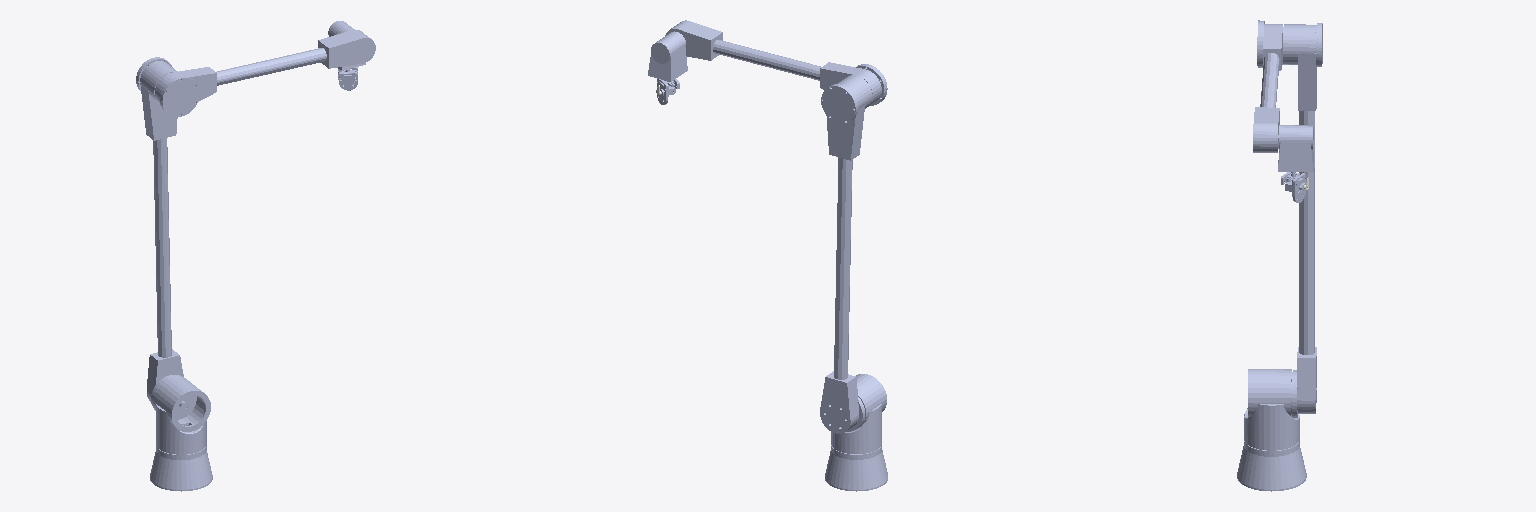
robot.urdf — proxima_manipulator:
<?xml version="1.0" encoding="utf-8"?>
<!-- This URDF was automatically created by SolidWorks to URDF Exporter! Originally created by [author] ([email redacted]) 
     Commit Version: 1.6.0-4-g7f85cfe  Build Version: 1.6.7995.38578
     For more information, please see http://wiki.ros.org/sw_urdf_exporter -->
<robot
  name="proxima_manipulator">

<link name="world"/>
<joint name="base_joint" type="fixed">
	<parent link="world"/>
	<child link="base_link"/>
	<origin rpy="0 0 3.142" xyz="0.0 0.0 0.0"/>
  </joint>

  <link
    name="base_link">
    <inertial>
      <origin
        xyz="2.5258402656484E-17 -7.66842226908882E-17 0.0290208692675547"
        rpy="0 0 0" />
      <mass
        value="0.247721059115889" />
      <inertia
        ixx="0.0003011867427044"
        ixy="2.05830182972313E-20"
        ixz="2.47621372524941E-20"
        iyy="0.0003011867427044"
        iyz="-1.96127207461358E-19"
        izz="0.000467545439957378" />
    </inertial>
    <visual>
      <origin
        xyz="0 0 0"
        rpy="0 0 0" />
      <geometry>
        <mesh
          filename="package://proxima_manipulator/meshes/base_link.STL" />
      </geometry>
      <material
        name="">
        <color
          rgba="0.792156862745098 0.819607843137255 0.933333333333333 1" />
      </material>
    </visual>
    <collision>
      <origin
        xyz="0 0 0"
        rpy="0 0 0" />
      <geometry>
        <mesh
          filename="package://proxima_manipulator/meshes/base_link.STL" />
      </geometry>
    </collision>
  </link>
  <link
    name="link_1">
    <inertial>
      <origin
        xyz="0.000679383765083395 0.0548526398535723 -2.3768793279131E-07"
        rpy="0 0 0" />
      <mass
        value="0.299442623727157" />
      <inertia
        ixx="0.000485698773883558"
        ixy="-7.01102822877796E-06"
        ixz="-8.72574148242731E-10"
        iyy="0.000369014762438299"
        iyz="1.69735479817694E-10"
        izz="0.000424724644713757" />
    </inertial>
    <visual>
      <origin
        xyz="0 0 0"
        rpy="0 0 0" />
      <geometry>
        <mesh
          filename="package://proxima_manipulator/meshes/link_1.STL" />
      </geometry>
      <material
        name="">
        <color
          rgba="0.792156862745098 0.819607843137255 0.933333333333333 1" />
      </material>
    </visual>
    <collision>
      <origin
        xyz="0 0 0"
        rpy="0 0 0" />
      <geometry>
        <mesh
          filename="package://proxima_manipulator/meshes/link_1.STL" />
      </geometry>
    </collision>
  </link>
  <joint
    name="joint_1"
    type="revolute">
    <origin
      xyz="0 0 0.052137"
      rpy="1.5708 0 1.5385" />
    <parent
      link="base_link" />
    <child
      link="link_1" />
    <axis
      xyz="0 -1 0" />
    <limit
      lower="0"
      upper="6.28"
      effort="300"
      velocity="3" />
  </joint>
  <link
    name="link_2">
    <inertial>
      <origin
        xyz="0.050597140893502 0.317685319191882 0.00338527588810221"
        rpy="0 0 0" />
      <mass
        value="0.431675804986954" />
      <inertia
        ixx="0.00212485997772942"
        ixy="4.92746627125594E-06"
        ixz="5.11499603265545E-06"
        iyy="0.00017848011321194"
        iyz="1.396088846447E-06"
        izz="0.00203639391469199" />
    </inertial>
    <visual>
      <origin
        xyz="0 0 0"
        rpy="0 0 0" />
      <geometry>
        <mesh
          filename="package://proxima_manipulator/meshes/link_2.STL" />
      </geometry>
      <material
        name="">
        <color
          rgba="0.792156862745098 0.819607843137255 0.933333333333333 1" />
      </material>
    </visual>
    <collision>
      <origin
        xyz="0 0 0"
        rpy="0 0 0" />
      <geometry>
        <mesh
          filename="package://proxima_manipulator/meshes/link_2.STL" />
      </geometry>
    </collision>
  </link>
  <joint
    name="joint_2"
    type="revolute">
    <origin
      xyz="0 0.0950000000000002 0"
      rpy="3.11920106161477 -0.0584069807270765 -3.14028535401375" />
    <parent
      link="link_1" />
    <child
      link="link_2" />
    <axis
      xyz="-0.99829394408228 0 -0.0583883653534411" />
    <limit
      lower="-1.6"
      upper="1.6"
      effort="200"
      velocity="3" />
  </joint>
  <link
    name="link_3">
    <inertial>
      <origin
        xyz="-0.00985412688205162 0.00581004391562301 0.178575211649324"
        rpy="0 0 0" />
      <mass
        value="0.280632653657222" />
      <inertia
        ixx="0.000444049965086898"
        ixy="4.59149600846214E-07"
        ixz="2.36461103156913E-05"
        iyy="0.000410211013806783"
        iyz="-6.76634984758777E-06"
        izz="9.90246968945817E-05" />
    </inertial>
    <visual>
      <origin
        xyz="0 0 0"
        rpy="0 0 0" />
      <geometry>
        <mesh
          filename="package://proxima_manipulator/meshes/link_3.STL" />
      </geometry>
      <material
        name="">
        <color
          rgba="0.792156862745098 0.819607843137255 0.933333333333333 1" />
      </material>
    </visual>
    <collision>
      <origin
        xyz="0 0 0"
        rpy="0 0 0" />
      <geometry>
        <mesh
          filename="package://proxima_manipulator/meshes/link_3.STL" />
      </geometry>
    </collision>
  </link>
  <joint
    name="joint_3"
    type="revolute">
    <origin
      xyz="-7.87703295446214E-05 0.614389000141173 0.00134677418149688"
      rpy="0.0223152609114132 -1.45620991984797E-05 0.00130507036394283" />
    <parent
      link="link_2" />
    <child
      link="link_3" />
    <axis
      xyz="0.998293944082279 0 0.0583883653534387" />
    <limit
      lower="-4.3"
      upper="1.2"
      effort="200"
      velocity="3" />
  </joint>
  <link
    name="link_4">
    <inertial>
      <origin
        xyz="0.0301290383281838 -0.022624242385202 0.0017034441674571"
        rpy="0 0 0" />
      <mass
        value="0.101723006190532" />
      <inertia
        ixx="5.32387818316443E-05"
        ixy="-2.14331810138912E-07"
        ixz="-6.30723833289978E-07"
        iyy="5.04859372146092E-05"
        iyz="-1.42626306207329E-07"
        izz="6.39658108033768E-05" />
    </inertial>
    <visual>
      <origin
        xyz="0 0 0"
        rpy="0 0 0" />
      <geometry>
        <mesh
          filename="package://proxima_manipulator/meshes/link_4.STL" />
      </geometry>
      <material
        name="">
        <color
          rgba="0.792156862745098 0.819607843137255 0.933333333333333 1" />
      </material>
    </visual>
    <collision>
      <origin
        xyz="0 0 0"
        rpy="0 0 0" />
      <geometry>
        <mesh
          filename="package://proxima_manipulator/meshes/link_4.STL" />
      </geometry>
    </collision>
  </link>
  <joint
    name="joint_4"
    type="revolute">
    <origin
      xyz="-0.00132044807338457 0.00819533769298764 0.372225791798846"
      rpy="-0.0298981332384568 4.4048526031649E-05 -0.00174947259189244" />
    <parent
      link="link_3" />
    <child
      link="link_4" />
    <axis
      xyz="0.99828701476073 -0.000894175230800016 0.0584998855619884" />
    <limit
      lower="-4"
      upper="0"
      effort="200"
      velocity="3" />
  </joint>
  <link
    name="link_5">
    <inertial>
      <origin
        xyz="0.00467171554770146 -0.0233217337591671 0.000155069988300116"
        rpy="0 0 0" />
      <mass
        value="0.0113820940104625" />
      <inertia
        ixx="2.03514310874647E-06"
        ixy="-2.24606683921887E-09"
        ixz="3.39087865597806E-09"
        iyy="1.07850848949512E-06"
        iyz="1.47897723382928E-09"
        izz="1.07127334368503E-06" />
    </inertial>
    <visual>
      <origin
        xyz="0 0 0"
        rpy="0 0 0" />
      <geometry>
        <mesh
          filename="package://proxima_manipulator/meshes/link_5.STL" />
      </geometry>
      <material
        name="">
        <color
          rgba="0.792156862745098 0.819607843137255 0.933333333333333 1" />
      </material>
    </visual>
    <collision>
      <origin
        xyz="0 0 0"
        rpy="0 0 0" />
      <geometry>
        <mesh
          filename="package://proxima_manipulator/meshes/link_5.STL" />
      </geometry>
    </collision>
  </link>
  <joint
    name="joint_5"
    type="revolute">
    <origin
      xyz="0.025875008104187 -0.0580199138792445 0.00191212380063072"
      rpy="-0.00152287370303111 -0.575402774361386 0.000450566298362034" />
    <parent
      link="link_4" />
    <child
      link="link_5" />
    <axis
      xyz="-0.00234790332289659 -0.999997243671188 0" />
    <limit
      lower="-6.28"
      upper="0"
      effort="200"
      velocity="3" />
  </joint>
  <link
    name="link_6">
    <inertial>
      <origin
        xyz="1.99840144432528E-15 -0.00194502546340572 -0.00268340410718959"
        rpy="0 0 0" />
      <mass
        value="0.000240771357022718" />
      <inertia
        ixx="6.71162139621469E-09"
        ixy="-5.16987882845642E-24"
        ixz="-1.27696007062874E-23"
        iyy="7.17265614180493E-09"
        iyz="-7.80721609478609E-10"
        izz="1.4051672262156E-09" />
    </inertial>
    <visual>
      <origin
        xyz="0 0 0"
        rpy="0 0 0" />
      <geometry>
        <mesh
          filename="package://proxima_manipulator/meshes/link_6.STL" />
      </geometry>
      <material
        name="">
        <color
          rgba="1 1 1 1" />
      </material>
    </visual>
    <collision>
      <origin
        xyz="0 0 0"
        rpy="0 0 0" />
      <geometry>
        <mesh
          filename="package://proxima_manipulator/meshes/link_6.STL" />
      </geometry>
    </collision>
  </link>
  <joint
    name="joint_6"
    type="revolute">
    <origin
      xyz="0.0197853931580041 -0.0260875237714602 -0.00520610962214785"
      rpy="0 -1.43801414949344 1.56844841787987" />
    <parent
      link="link_5" />
    <child
      link="link_6" />
    <axis
      xyz="0.000310844865866911 -0.999997243671193 -0.00232723558859007" />
    <limit
      lower="0"
      upper="1.4"
      effort="200"
      velocity="3" />
  </joint>

    <transmission name="tran1">
   <type>transmission_interface/SimpleTransmission</type>
    <joint name="joint_1">
    <hardwareInterface>hardware_interface/PositionJointInterface</hardwareInterface>
    </joint>
    <actuator name="motor1">
    <hardwareInterface>hardware_interface/PositionJointInterface</hardwareInterface>
    <mechanicalReduction>1</mechanicalReduction>
    </actuator>
    </transmission>

    <transmission name="tran2">
   <type>transmission_interface/SimpleTransmission</type>
    <joint name="joint_2">
    <hardwareInterface>hardware_interface/PositionJointInterface</hardwareInterface>
    </joint>
    <actuator name="motor2">
    <hardwareInterface>hardware_interface/PositionJointInterface</hardwareInterface>
    <mechanicalReduction>1</mechanicalReduction>
    </actuator>
    </transmission>

    <transmission name="tran3">
   <type>transmission_interface/SimpleTransmission</type>
    <joint name="joint_3">
    <hardwareInterface>hardware_interface/PositionJointInterface</hardwareInterface>
    </joint>
    <actuator name="motor3">
    <hardwareInterface>hardware_interface/PositionJointInterface</hardwareInterface>
    <mechanicalReduction>1</mechanicalReduction>
    </actuator>
    </transmission>

    <transmission name="tran4">
   <type>transmission_interface/SimpleTransmission</type>
    <joint name="joint_4">
    <hardwareInterface>hardware_interface/PositionJointInterface</hardwareInterface>
    </joint>
    <actuator name="motor4">
    <hardwareInterface>hardware_interface/PositionJointInterface</hardwareInterface>
    <mechanicalReduction>1</mechanicalReduction>
    </actuator>
    </transmission>

    <transmission name="tran5">
   <type>transmission_interface/SimpleTransmission</type>
    <joint name="joint_5">
    <hardwareInterface>hardware_interface/PositionJointInterface</hardwareInterface>
    </joint>
    <actuator name="motor5">
    <hardwareInterface>hardware_interface/PositionJointInterface</hardwareInterface>
    <mechanicalReduction>1</mechanicalReduction>
    </actuator>
    </transmission>

    <transmission name="tran6">
   <type>transmission_interface/SimpleTransmission</type>
    <joint name="joint_6">
    <hardwareInterface>hardware_interface/PositionJointInterface</hardwareInterface>
    </joint>
    <actuator name="motor6">
    <hardwareInterface>hardware_interface/PositionJointInterface</hardwareInterface>
    <mechanicalReduction>1</mechanicalReduction>
    </actuator>
    </transmission>

    <gazebo>
  <plugin name="gazebo_ros_control" filename="libgazebo_ros_control.so">
    <robotNamespace>/</robotNamespace>
  </plugin>
</gazebo>

<gazebo reference="link_1">
	<selfCollide>true</selfCollide>
  </gazebo>

  <gazebo reference="link_2">
	<selfCollide>true</selfCollide>
  </gazebo>

  <gazebo reference="link_3">
	<selfCollide>true</selfCollide>
  </gazebo>

  <gazebo reference="link_4">
	<selfCollide>true</selfCollide>
  </gazebo>

  <gazebo reference="link_5">
	<selfCollide>true</selfCollide>
  </gazebo>

  <gazebo reference="link_6">
	<selfCollide>true</selfCollide>
  </gazebo>


</robot>

--- Facts derived from the render (not from the file) ---
3 views of the same robot in one strip: view 1: azimuth 30°, elevation 25°; view 2: azimuth 150°, elevation 25°; view 3: azimuth 270°, elevation 25° (orthographic).
Model proxima_manipulator with 8 links and 7 joints (6 revolute, 1 fixed), rooted at world, posed all joints at 0.
Links seen in each view (by area): view 1: link_2, link_3, link_1, base_link; view 2: link_2, link_3, link_1, base_link, link_4; view 3: link_2, link_1, link_3, base_link, link_4, link_5.
Link boxes in pixels (box(x1,y1,x2,y2)): link_2: box(136, 57, 186, 410); link_3: box(155, 30, 375, 116); link_1: box(153, 376, 210, 454); base_link: box(150, 444, 212, 491); link_2: box(820, 75, 872, 433); link_3: box(665, 20, 887, 105); link_1: box(831, 374, 886, 453); base_link: box(825, 445, 887, 491); link_4: box(648, 31, 687, 81); link_2: box(1283, 23, 1322, 417); link_1: box(1244, 369, 1299, 450); link_3: box(1253, 20, 1282, 152); base_link: box(1237, 441, 1306, 491); link_4: box(1278, 125, 1313, 173); link_5: box(1281, 172, 1305, 202).
Size in the robot's own frame: 0.4432 by 0.1386 by 0.7993 metres.
7 mesh visuals loaded from 7 distinct referenced files (7 binary STL).